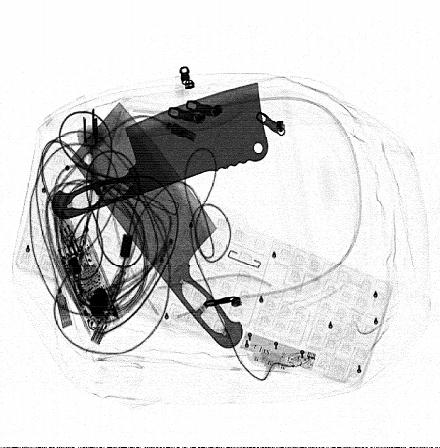Knife: (70, 100, 244, 349), (51, 81, 270, 220)
